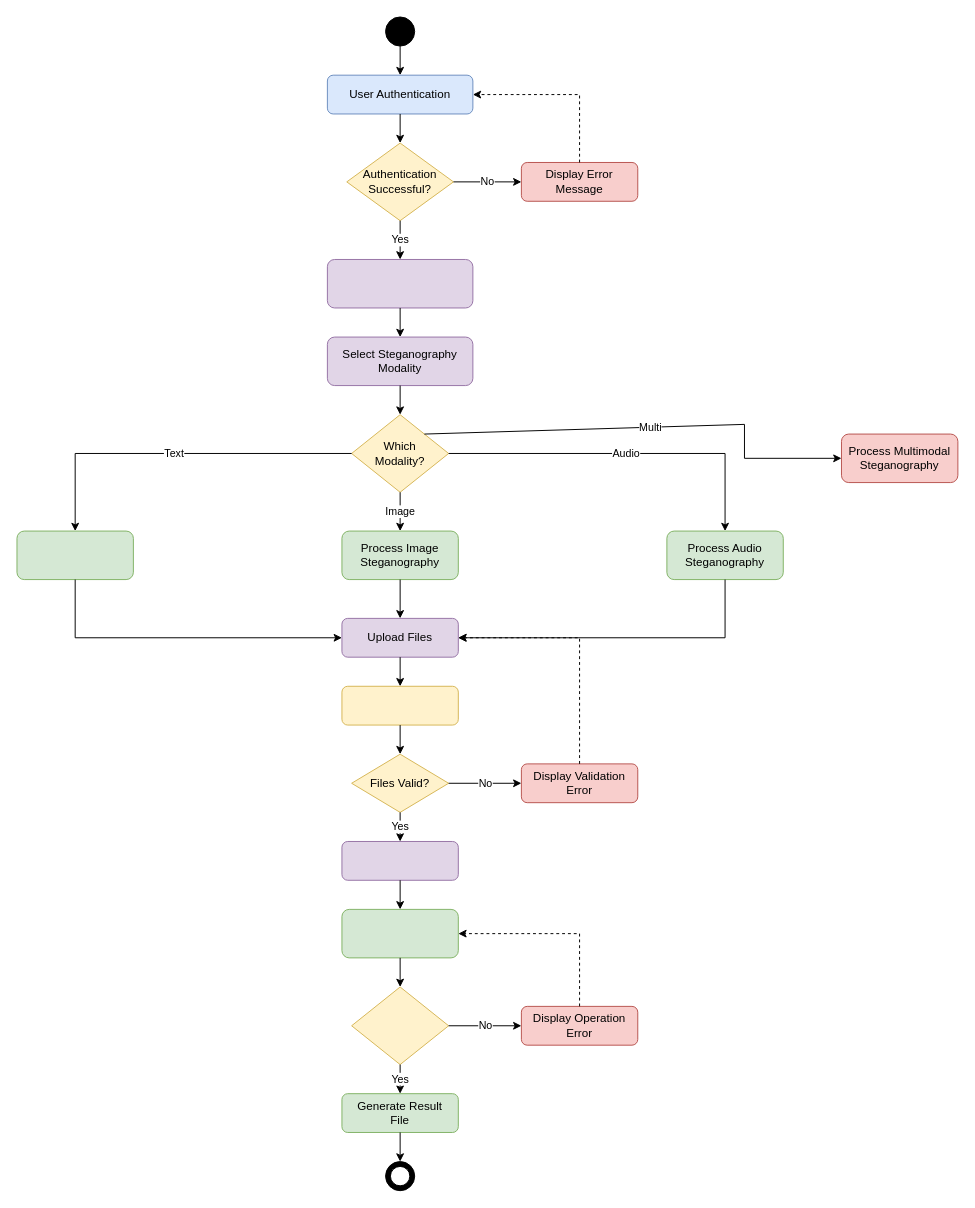
The diagram is 975 pixels wide and 1208 high, and some of its shapes have lost their labels. The centre of each missing label's shape, as x and y in pixels:
"Enter Password" belongs at pixel 399 860.
"Execute Steganographic Operation" belongs at pixel 399 933.
"Operation Successful?" belongs at pixel 400 1025.
"Process Text Steganography" belongs at pixel 74 555.
"Select Operation Mode (Encrypt/Decrypt)" belongs at pixel 399 283.
"Validate Input Files" belongs at pixel 399 705.
